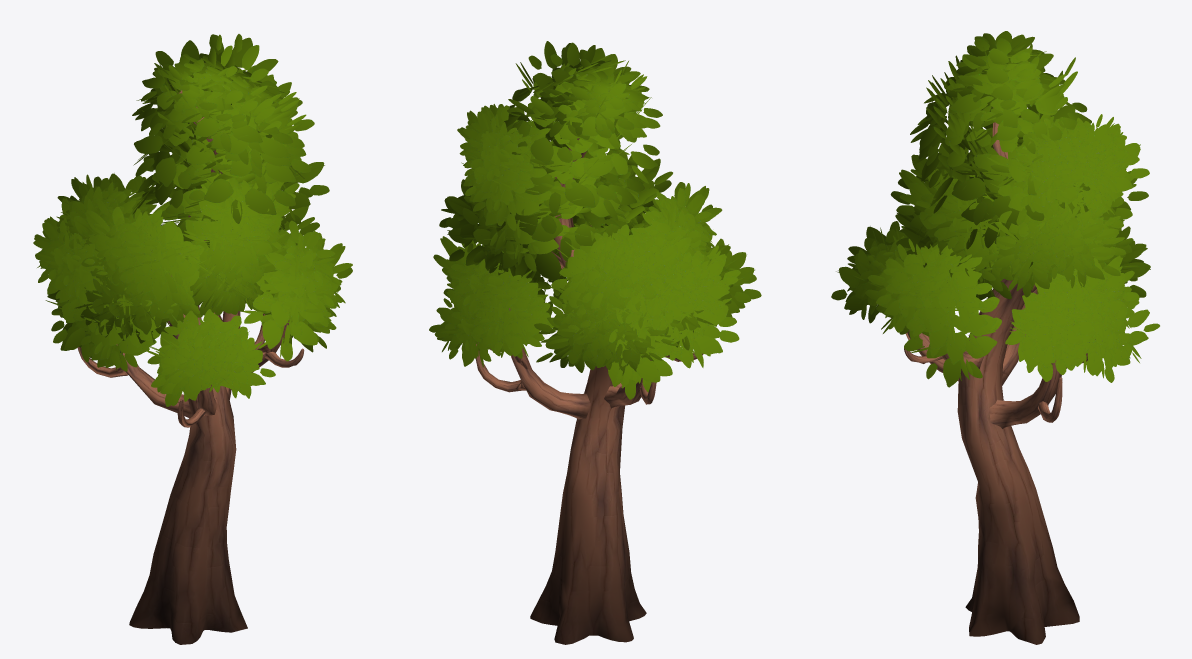
Rendered from CommonTree_2.glb.
The picture shows the model from 3 angles, left to right: view 1: azimuth 30°, elevation 25°; view 2: azimuth 150°, elevation 25°; view 3: azimuth 270°, elevation 25°; orthographic projection. The views are drawn at different scales.
Visible parts, largest first — view 1: CommonTree_2; view 2: CommonTree_2; view 3: CommonTree_2.
Part boxes in pixels (x1,y1,x2,y2): CommonTree_2: (33,34,352,644); CommonTree_2: (429,41,761,644); CommonTree_2: (831,31,1159,644).
Size of the model in its own units: 4.46 by 7.64 by 4.28.
2 materials, 2 textured.
